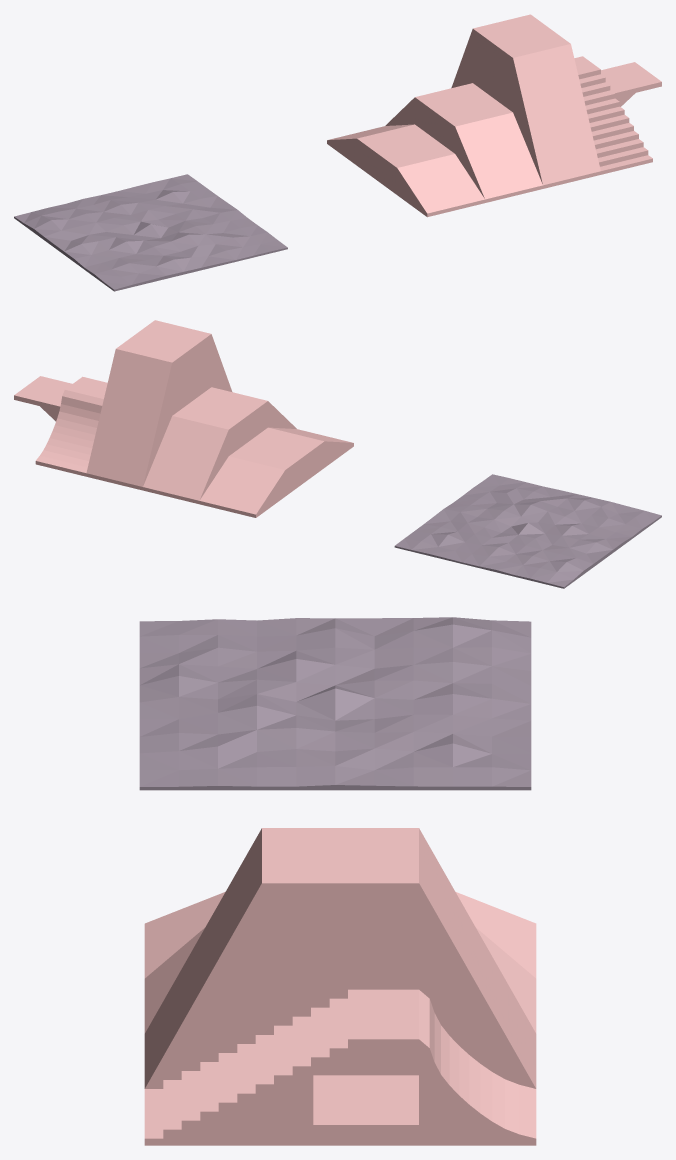
The model's file is testing-grounds.glb.
3 views of the same model, one above another, from view 1: azimuth 30°, elevation 25°; view 2: azimuth 150°, elevation 25°; view 3: azimuth 270°, elevation 25° (orthographic). The views are drawn at different scales.
Visible parts, largest first — view 1: roughPlan, slopes.003, slopes.002, slopes.001, stairs, stairs.001; view 2: roughPlan, slopes.003, slopes.002, slopes.001, stairs, stairs.001; view 3: roughPlan, slopes.003, stairs, stairs.001, slopes.001, slopes.002.
Part boxes in pixels (x1,y1,x2,y2): roughPlan: (14, 174, 287, 291); slopes.003: (451, 14, 600, 188); slopes.002: (385, 83, 542, 202); slopes.001: (327, 124, 485, 217); stairs: (574, 56, 652, 174); stairs.001: (601, 62, 661, 106); roughPlan: (394, 474, 661, 588); slopes.003: (86, 320, 232, 490); slopes.002: (143, 387, 296, 503); slopes.001: (199, 427, 353, 517); stairs: (35, 376, 107, 476); stairs.001: (14, 376, 72, 421); roughPlan: (139, 617, 531, 790); slopes.003: (144, 828, 536, 1088); stairs: (144, 989, 536, 1145); stairs.001: (313, 1075, 418, 1133); slopes.001: (144, 892, 536, 978); slopes.002: (144, 928, 536, 1033).
Bounding box in the file's own units: 34.1 × 6 × 10.13.
